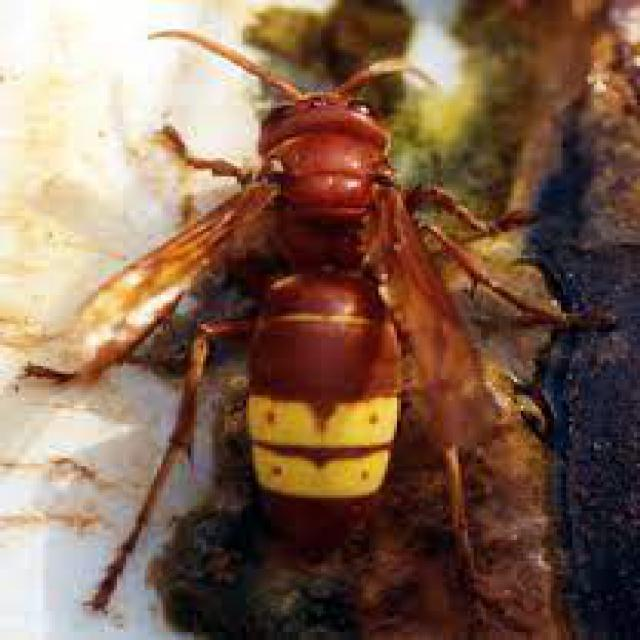Vespa Orientalis: (15, 13, 628, 638)
